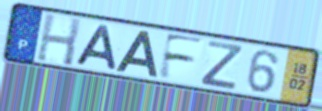6: (246, 49, 281, 95)
A: (72, 22, 120, 72), (114, 28, 160, 79)
F: (156, 32, 207, 82)
H: (34, 11, 83, 68)
Z: (198, 39, 245, 92)
